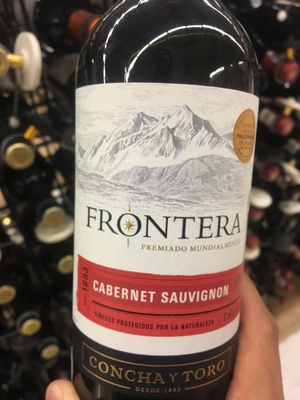frontera cabernet sauvignon: (56, 12, 255, 400)
